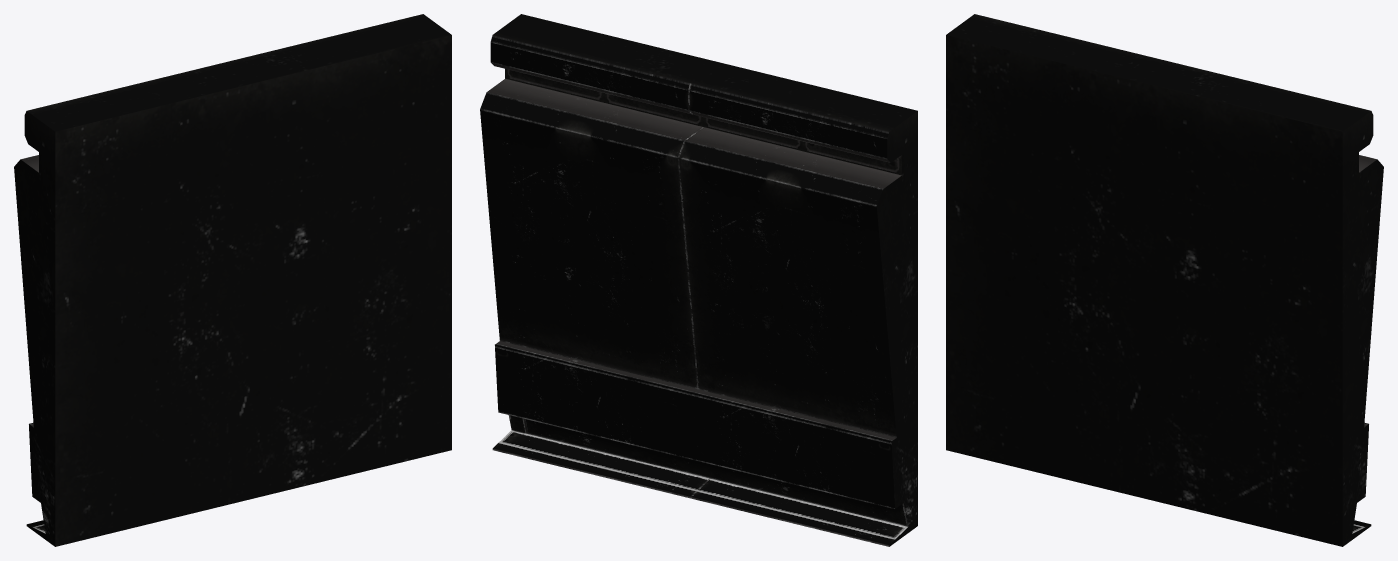
The model's file is SM_Wall_A.FBX.
3 views of the same model, side by side, from view 1: azimuth 30°, elevation 25°; view 2: azimuth 150°, elevation 25°; view 3: azimuth 330°, elevation 25° (orthographic).
Parts seen in each view (by area): view 1: SM_Wall_A; view 2: SM_Wall_A; view 3: SM_Wall_A.
Part boxes in pixels (x1=…): SM_Wall_A: x1=14, y1=14, x2=451, y2=546; SM_Wall_A: x1=480, y1=14, x2=917, y2=546; SM_Wall_A: x1=946, y1=14, x2=1383, y2=546.
Bounding box in the file's own units: 400 × 400 × 71.98.
1 material, 1 textured.
